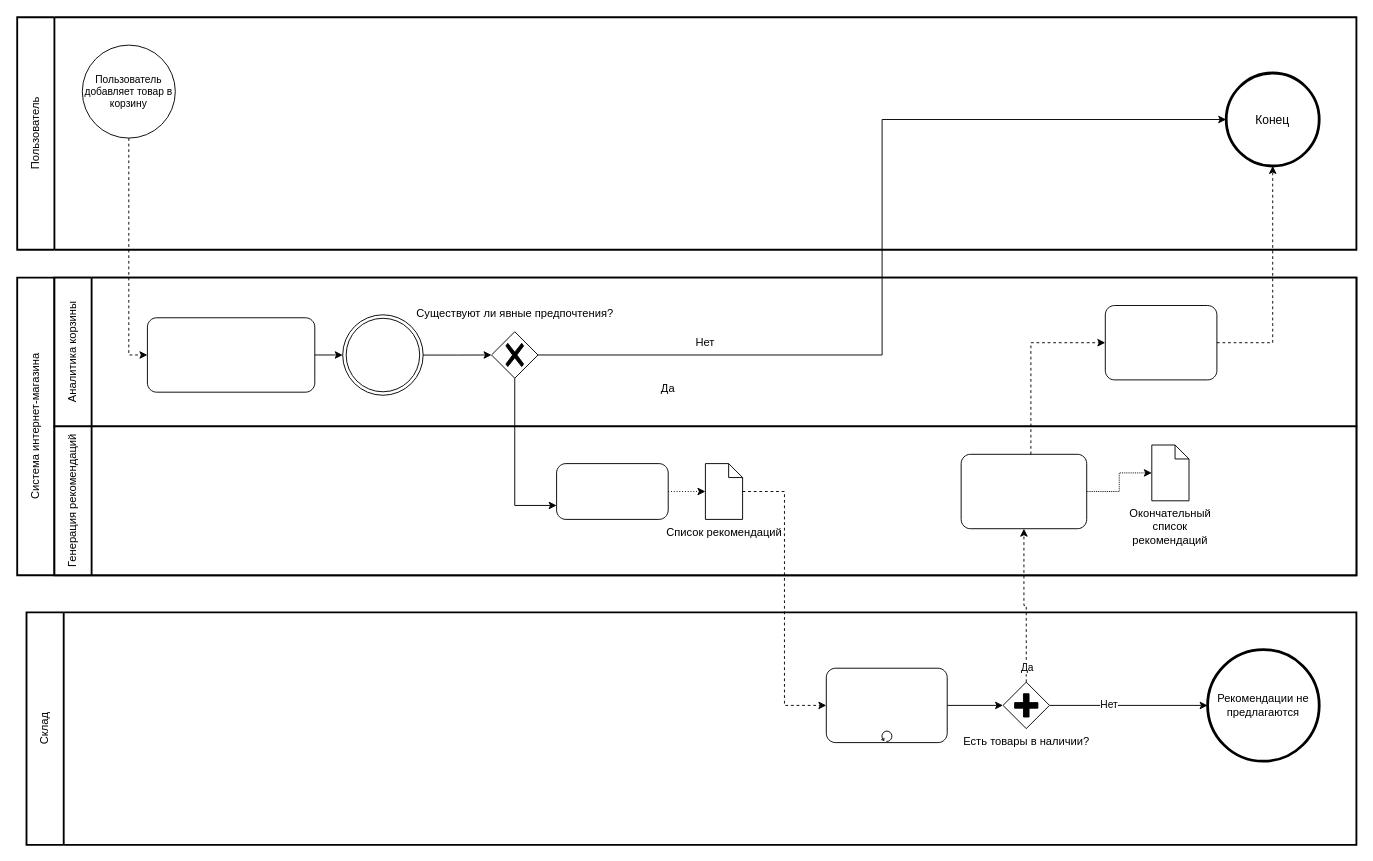
Image size: 1373x861. Some labels were removed from this diagram. The box of each missing label's shape, as (x1, y1, x2, y2) in pixels:
Анализ завершен: (342, 314, 423, 395)
Анализ содержимого корзины покупателя: (146, 317, 315, 392)
Отображение рекомендаций пользователю: (1104, 305, 1217, 380)
Поиск сопутствующих товаров: (556, 463, 668, 519)
Проверка наличия на складе каждого товара из списка: (825, 667, 947, 743)
Формирование окончательного списка рекомендаций: (960, 453, 1087, 529)
